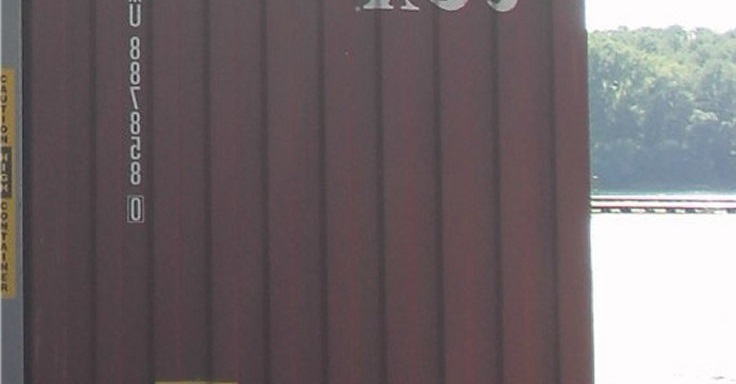container_no_door: (29, 3, 588, 379)
